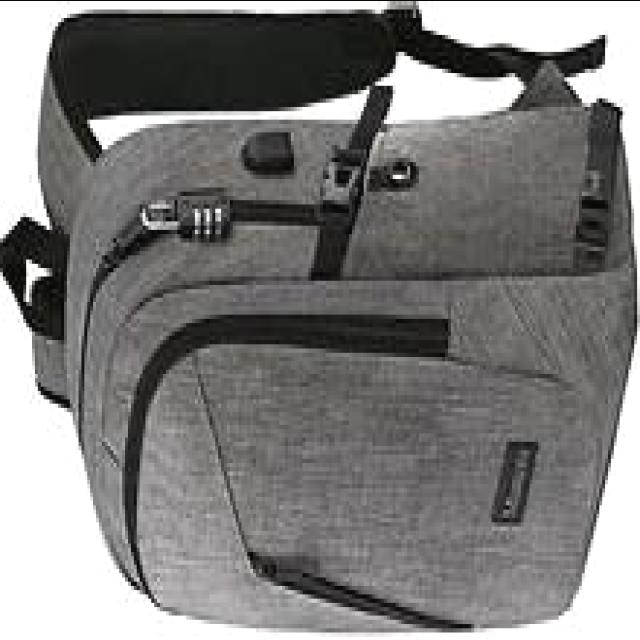backpack: (1, 9, 638, 637)
